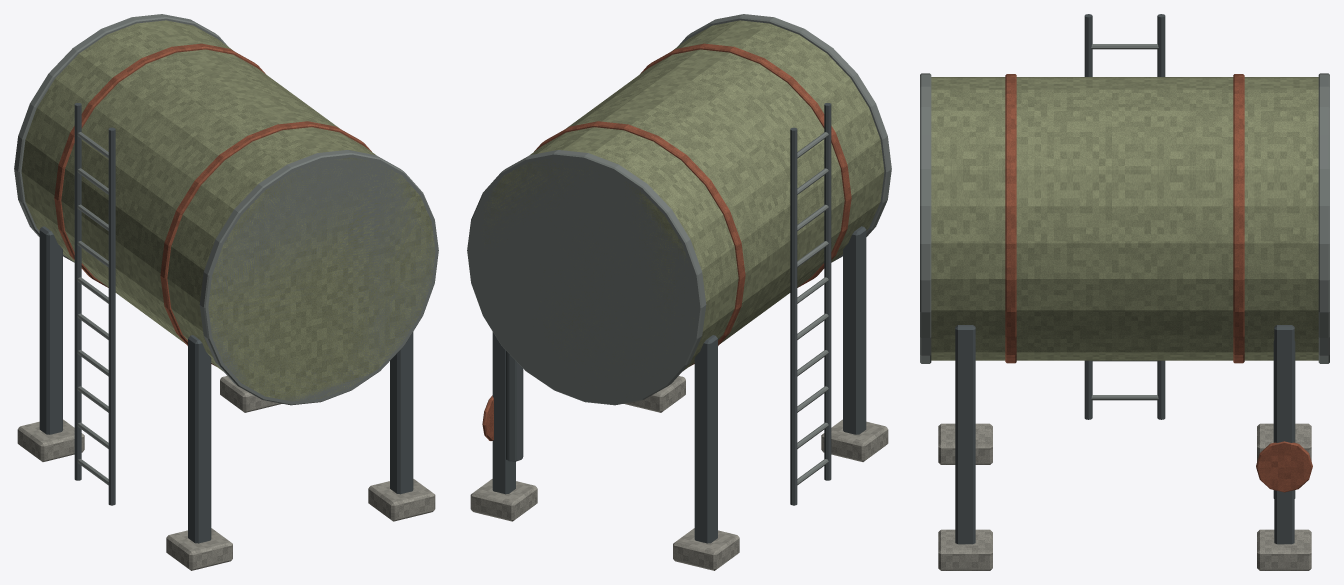
3 renders of one model, left to right at view 1: azimuth 30°, elevation 25°; view 2: azimuth 150°, elevation 25°; view 3: azimuth 270°, elevation 25°, orthographic. The views are drawn at different scales.
Visible parts, largest first — view 1: ST2-B05_Mesh; view 2: ST2-B05_Mesh; view 3: ST2-B05_Mesh.
Part boxes in pixels (box(x1,y1,x2,y2)): ST2-B05_Mesh: box(14, 14, 438, 570); ST2-B05_Mesh: box(467, 14, 891, 570); ST2-B05_Mesh: box(920, 14, 1329, 570).
Bounding box in the file's own units: 2.8 × 4.1 × 3.6.
5 materials, 3 textured.
